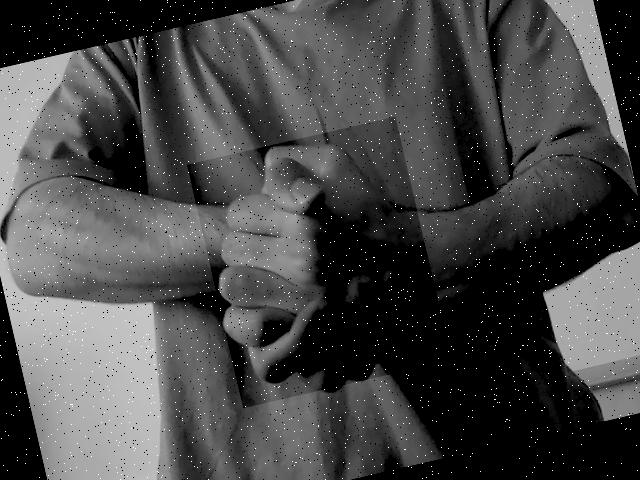friend: (186, 116, 452, 407)
